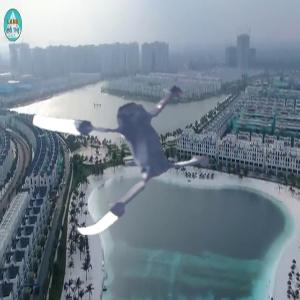drone: (22, 42, 228, 248)
